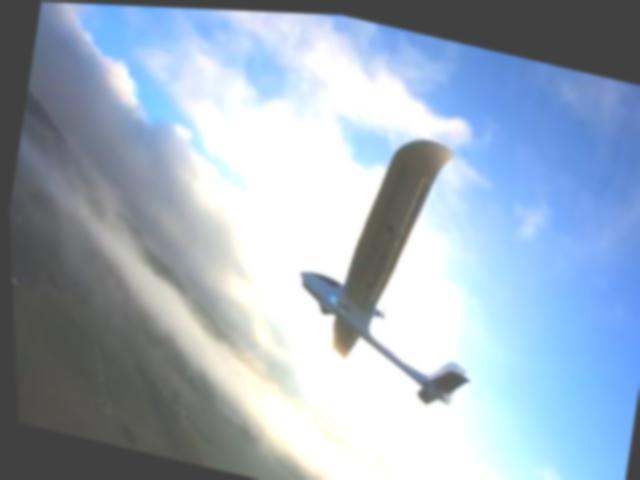uav: (253, 92, 515, 426)
